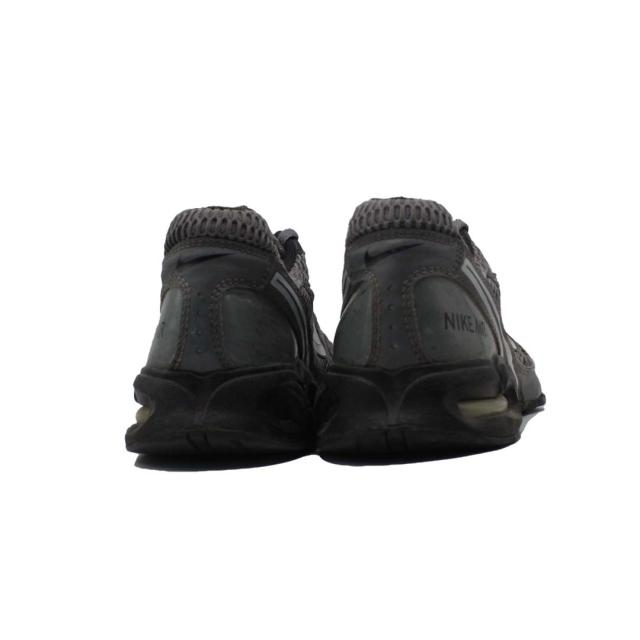heel: (330, 164, 497, 371), (143, 201, 305, 374)
midsole: (128, 368, 539, 466)
